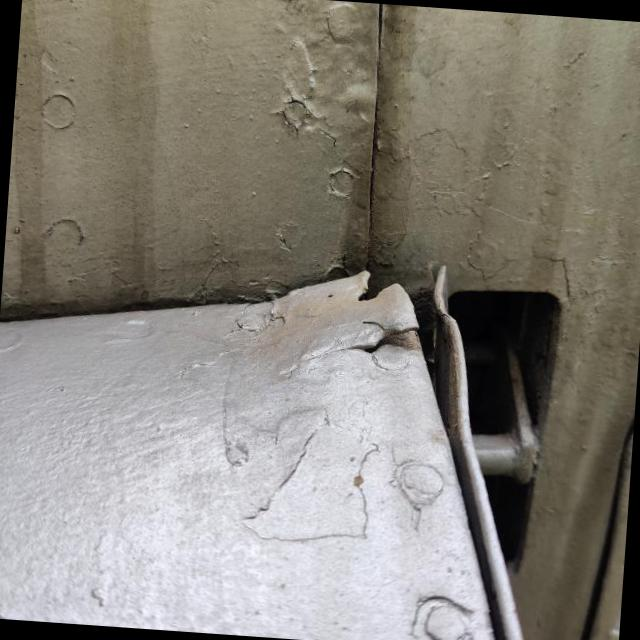Crack: (366, 322, 415, 363)
